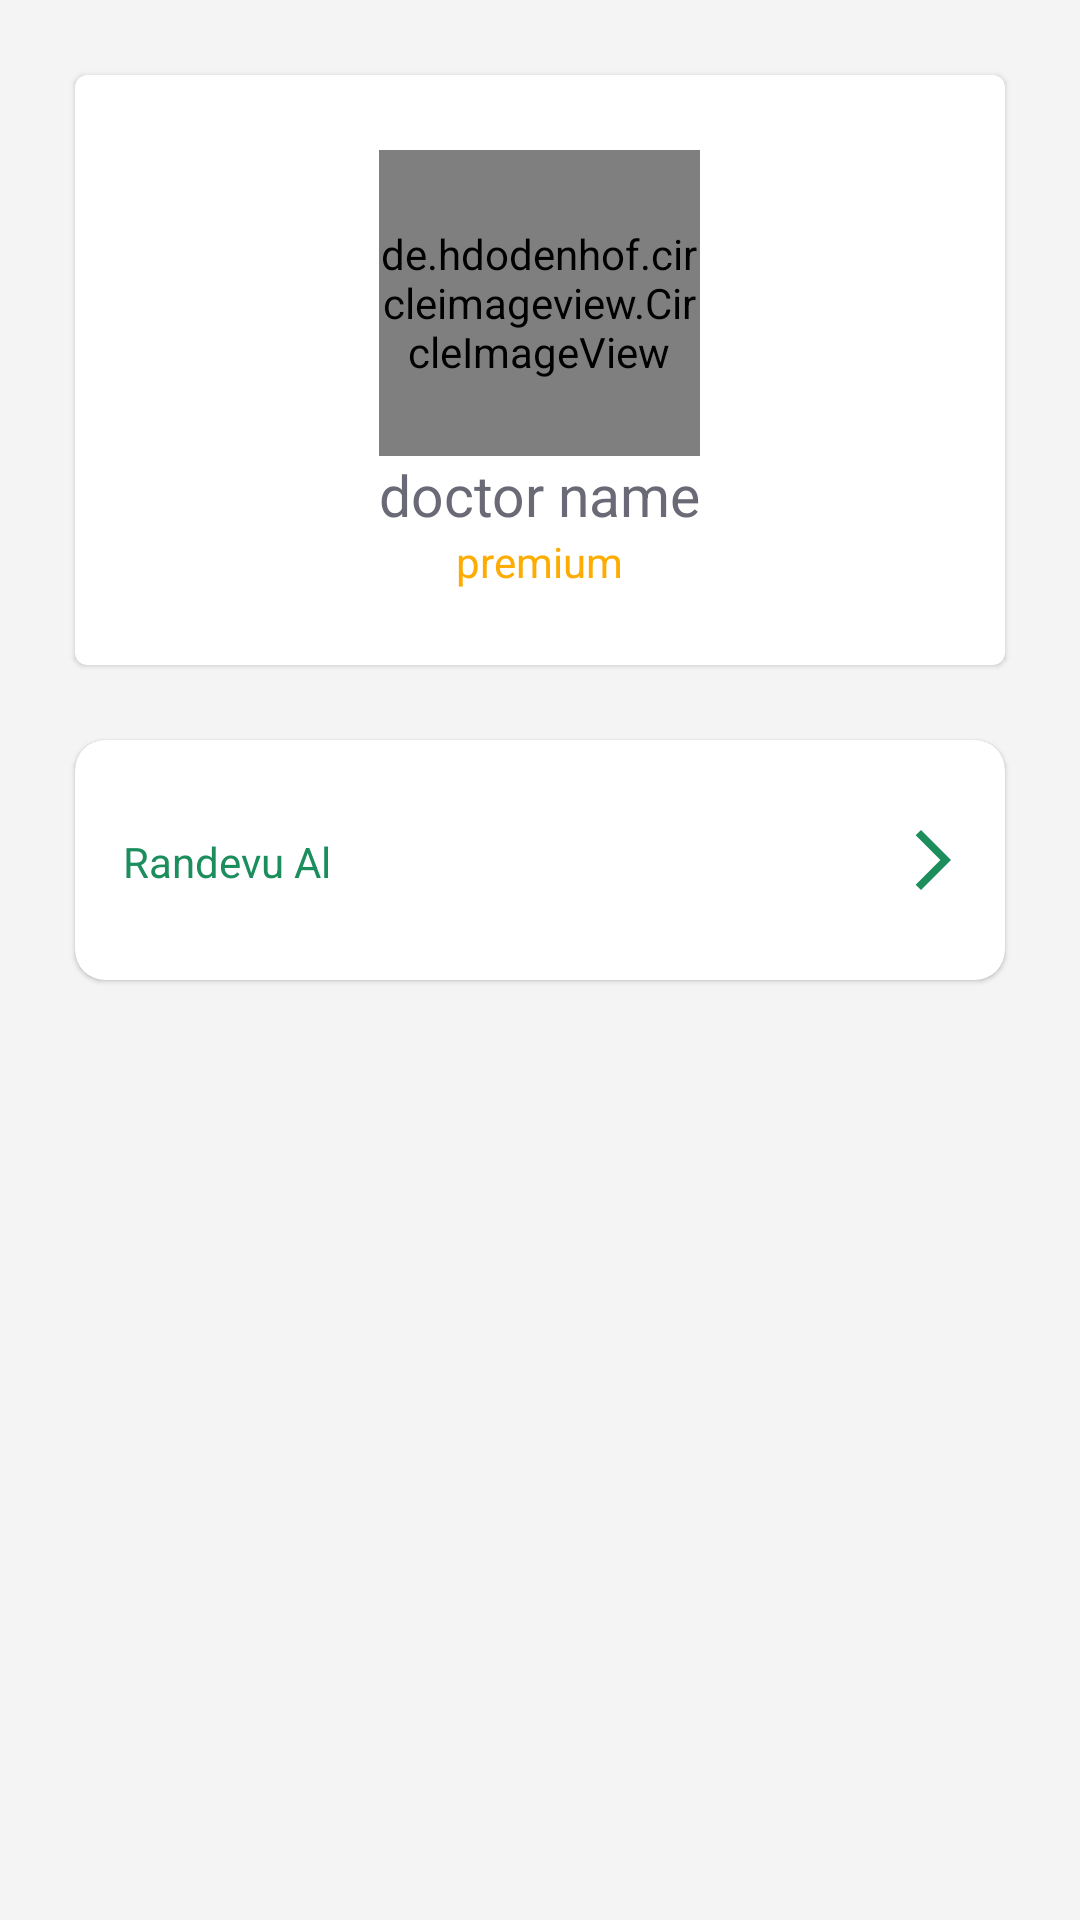

Named icons in this screenshot (1080w x 1920h) and their bounding boxes, bbox(x1, y1, x2, y2):
arrow forward: bbox(916, 830, 951, 890)
